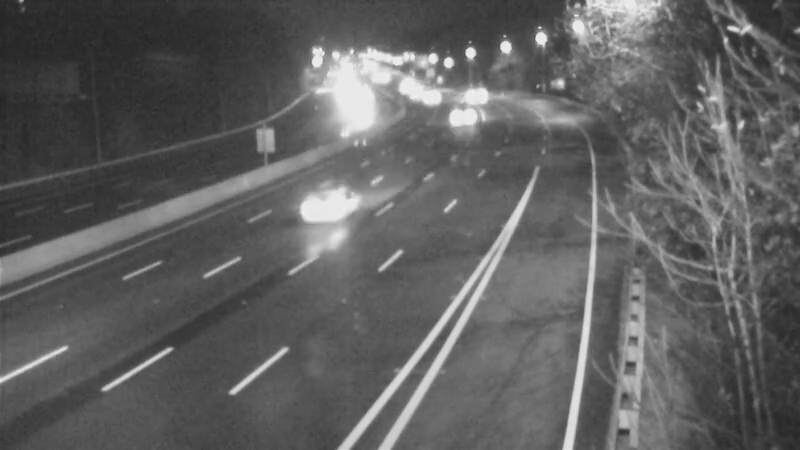vehicle: (285, 170, 365, 250), (378, 62, 428, 112), (391, 67, 441, 117), (406, 72, 456, 122), (461, 69, 511, 119), (431, 95, 481, 145), (330, 80, 380, 130)
